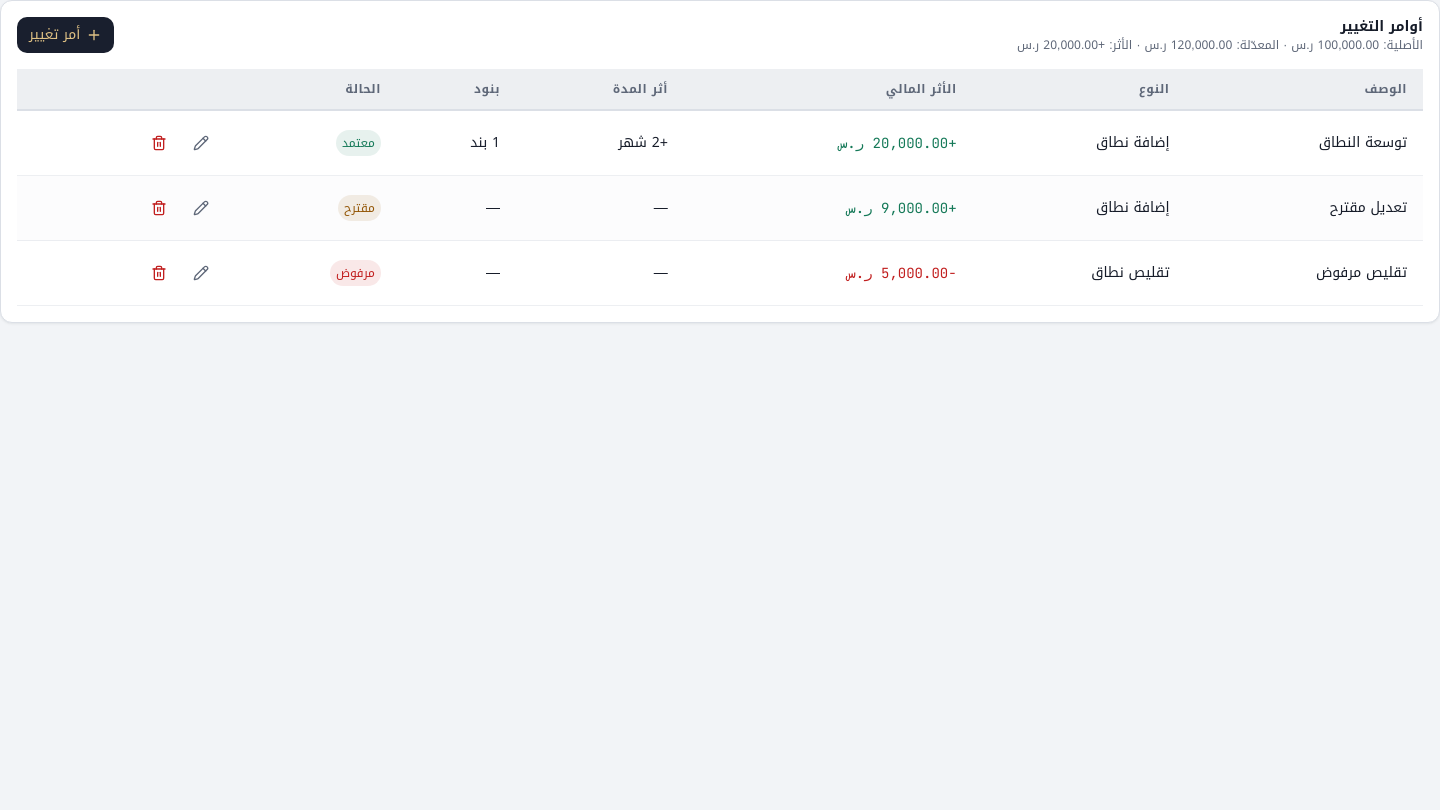
Test case: editing an order › opens on the row's values, keeps its items, and saves the changed impact
Later steps or results of the test are not shown.
Click the button named "تعديل أمر التغيير" in the row of "توسعة النطاق". click: (201, 143)
box: x1=181 y1=123 x2=221 y2=163
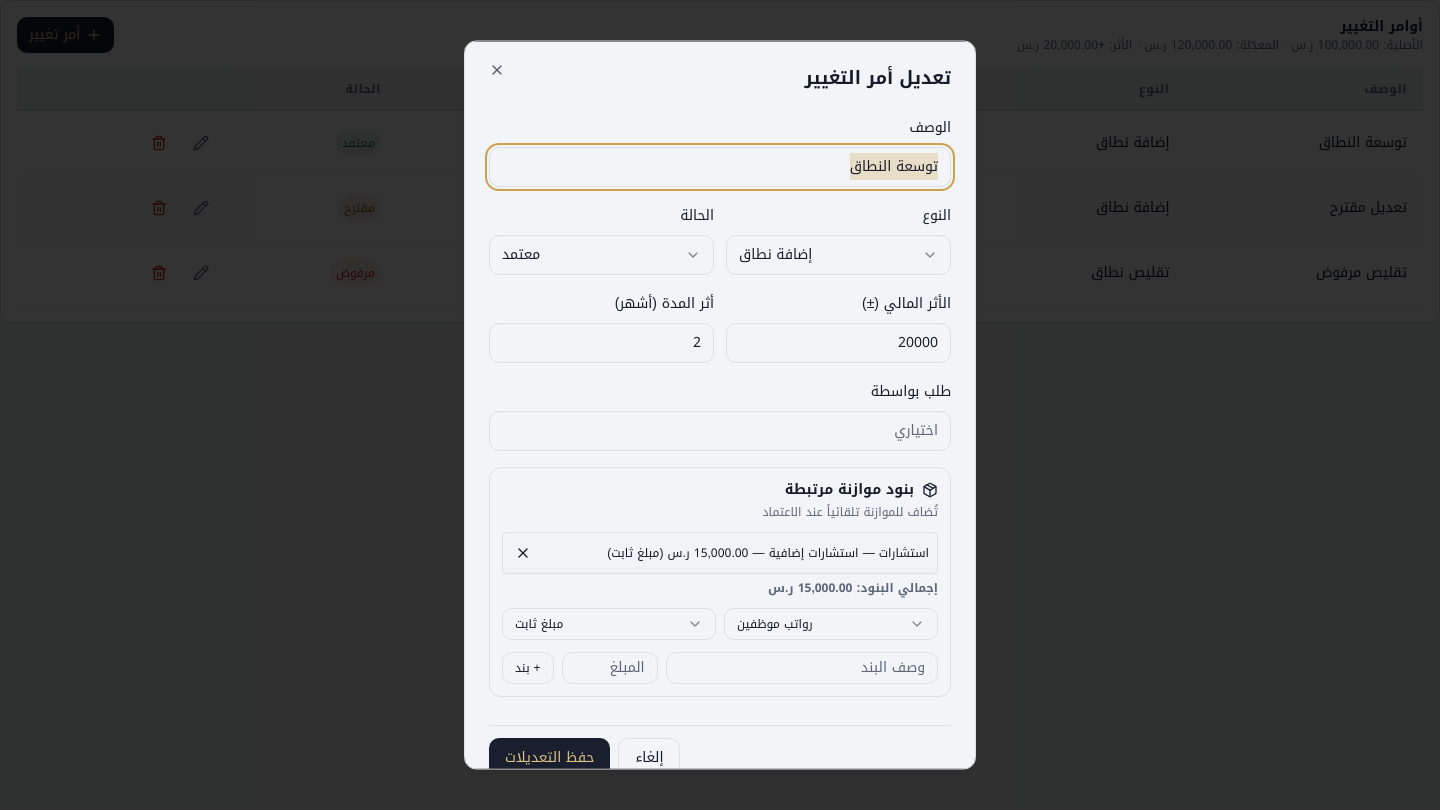
Now the number field with placeholder "50000" holds "20000", box x1=726 y1=322 x2=951 y2=362
Now the text "استشارات — استشارات إضافية — 15,000.00 ر.س (مبلغ ثابت)" is shown, box x1=607 y1=541 x2=929 y2=563
